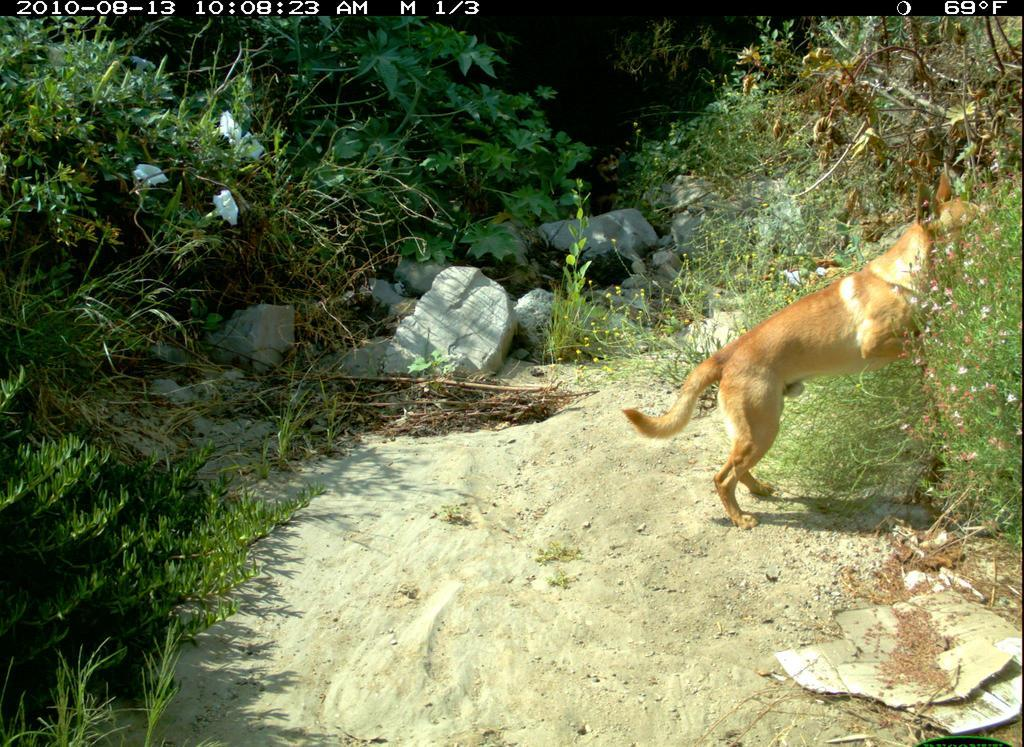dog: (623, 155, 1013, 529)
